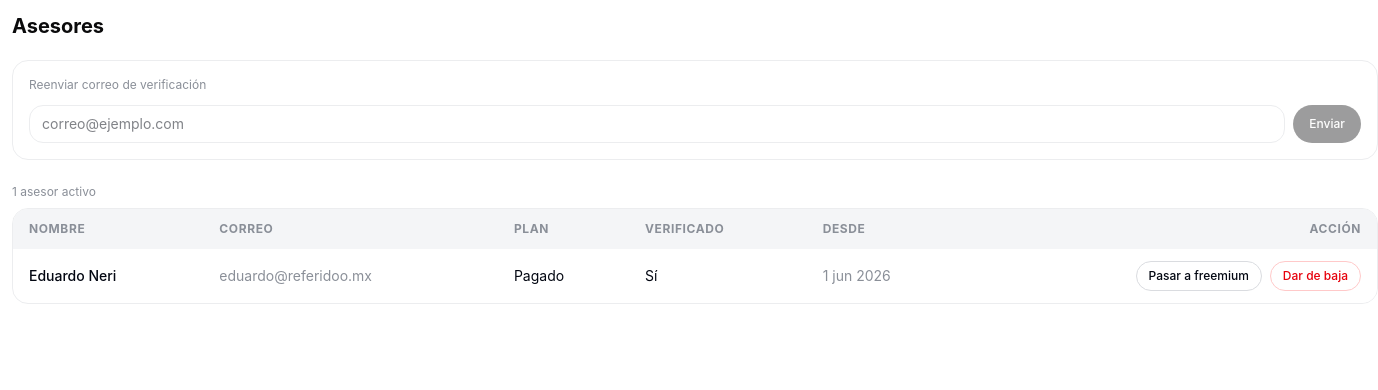
Test: OwnerAsesoresPage › expands the drill-down panel on row click, showing billing detail
Step 1. Click the text "Eduardo Neri" → point(73, 276), box [13, 249, 1377, 303]
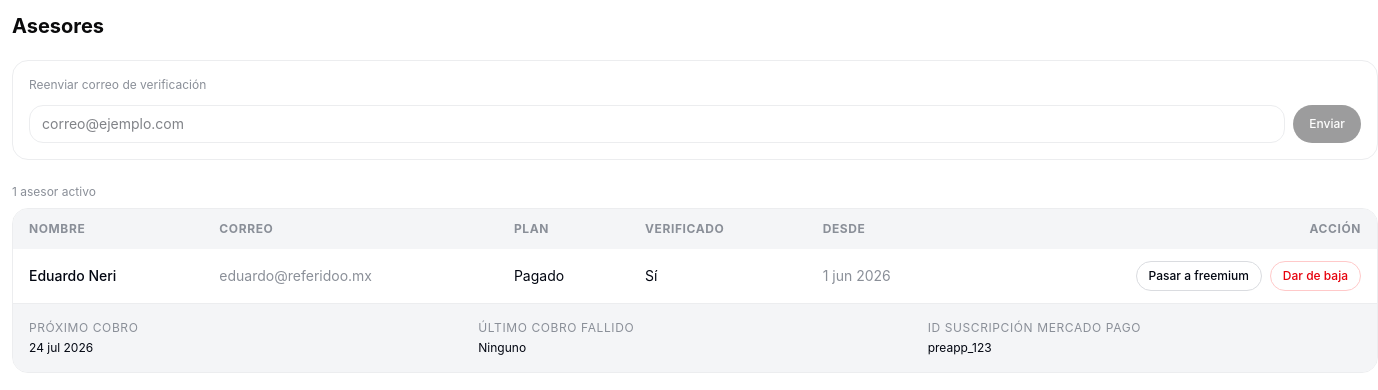
Check: the text "preapp_123" is shown, box [928, 340, 992, 355]
Check: the text "24 jul 2026" is shown, box [29, 340, 93, 355]
